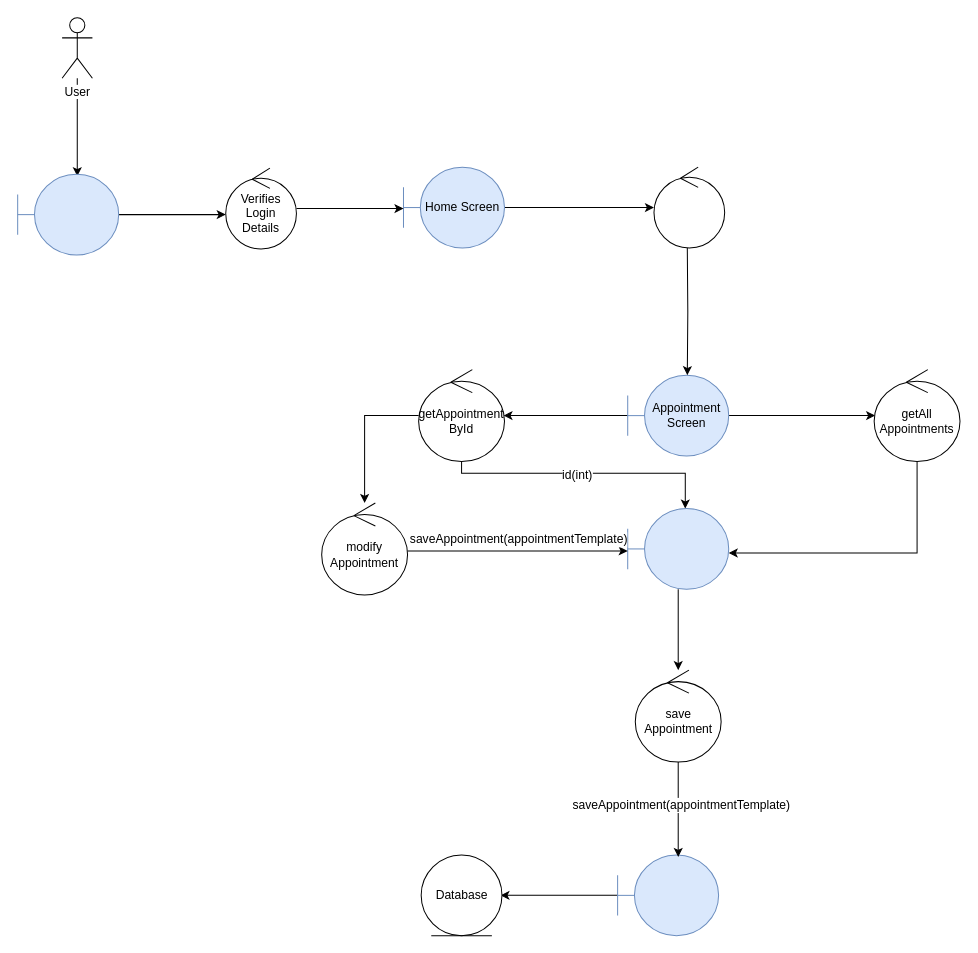
This 978x953 diagram has some shape labels left out. Each missing label, with the centre of its shape:
appointmentDAO: the point at 668,895
Login Screen: the point at 68,214
Request Appointment screen: the point at 689,207
service: the point at 678,548
